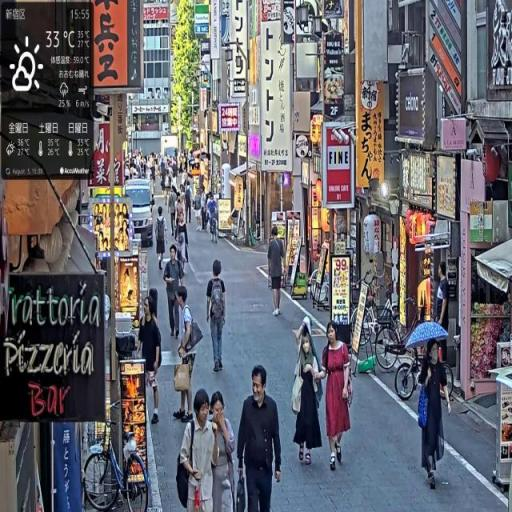person: (237, 364, 283, 511), (291, 323, 328, 469), (417, 340, 452, 491), (320, 322, 355, 472), (177, 390, 217, 511), (174, 288, 201, 425), (209, 389, 239, 512), (138, 297, 163, 423), (207, 260, 228, 376), (163, 245, 184, 339), (268, 229, 286, 320), (175, 207, 191, 282), (156, 206, 169, 273)
